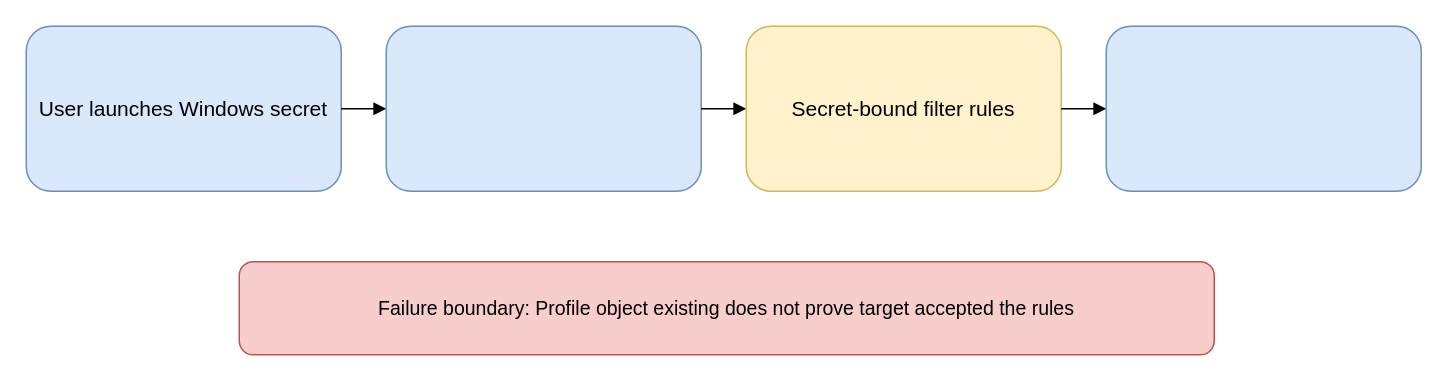
The diagram is 1448 pixels wide and 381 high, and some of its shapes have lost their labels. The shapes that lost their labels are listed below. From the top down, each one's centre as x and y in pixels, then its label:
At (x=543, y=108): "FortiPAM target + WinRM".
At (x=1263, y=108): "Windows target execution".
